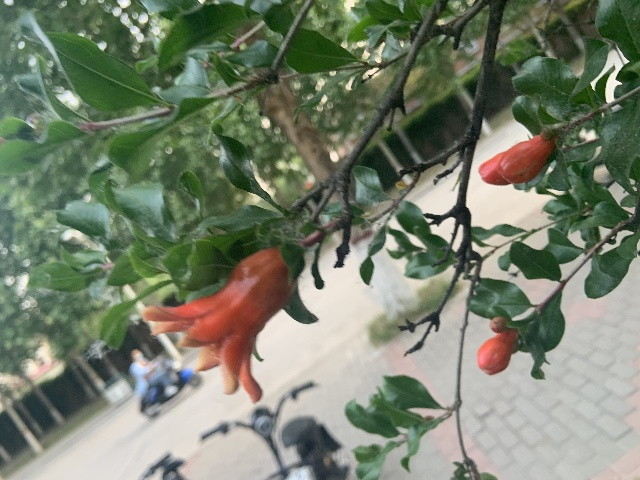bud: (499, 134, 554, 184), (476, 328, 517, 375), (479, 153, 508, 184), (489, 316, 510, 332)
flower: (141, 246, 293, 403)
